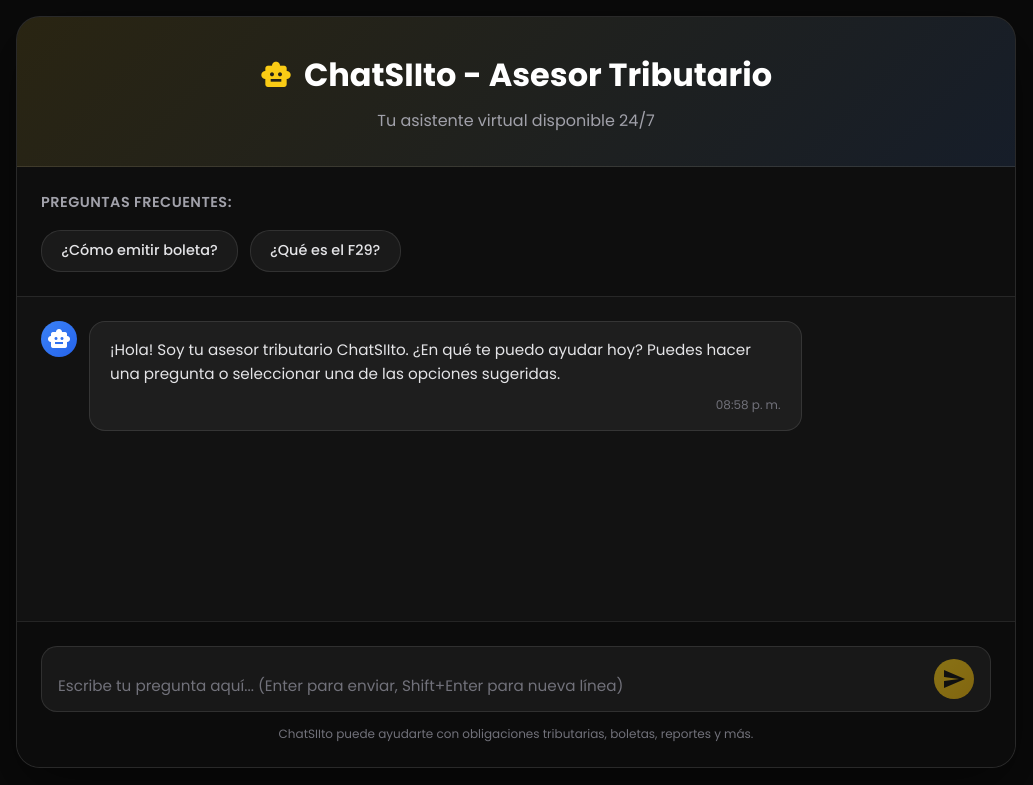
Test: Chatbot › Funcionalidad de búsqueda › debe manejar búsqueda de F29/IVA
Check: the text "¡Hola! Soy tu asesor tributario ChatSIIto" is shown, box [110,339,751,384]
Replace the text in the text box with placeholder "Escribe tu pregunta aquí" with "F29" at (490, 687), box [58,675,922,699]
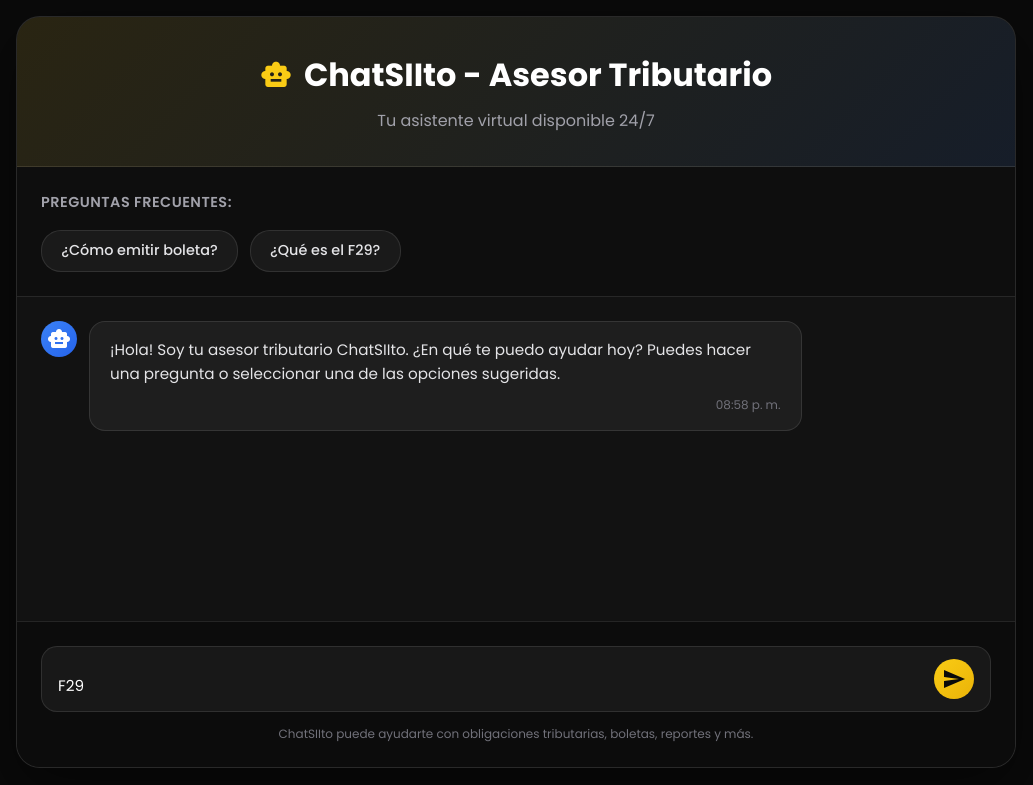
Click the button named "Enviar mensaje" at (954, 679), box [934,659,974,699]
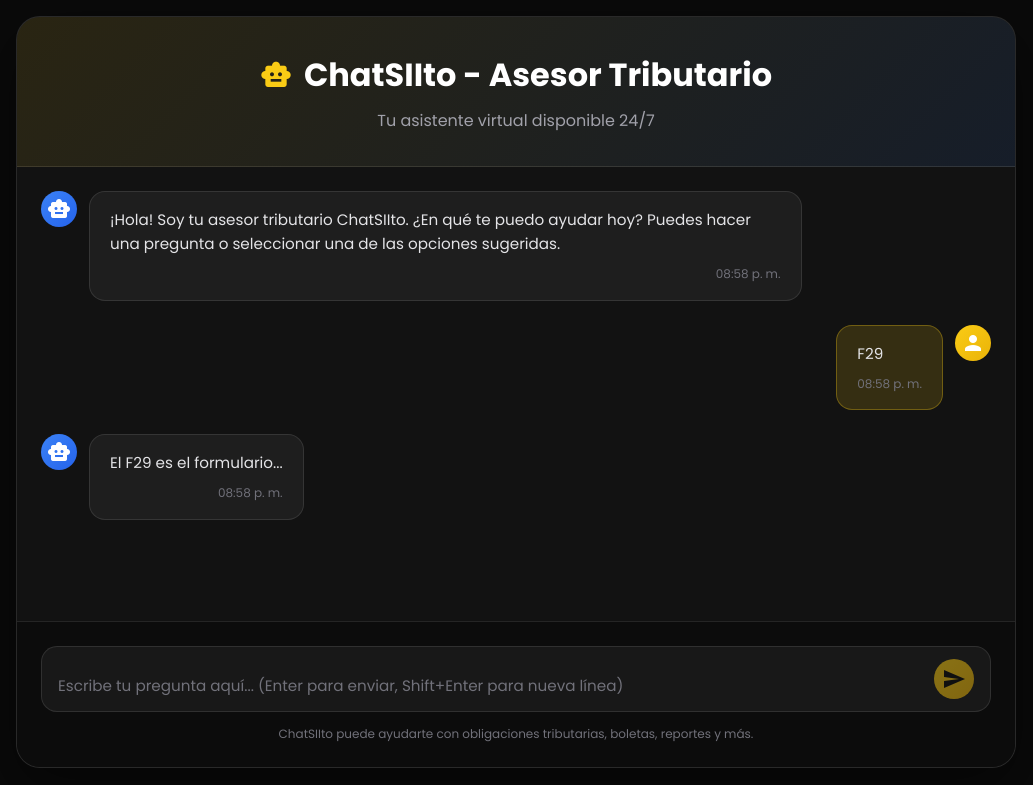
Check: the text "El F29 es el formulario..." is shown, box [110,451,283,475]
